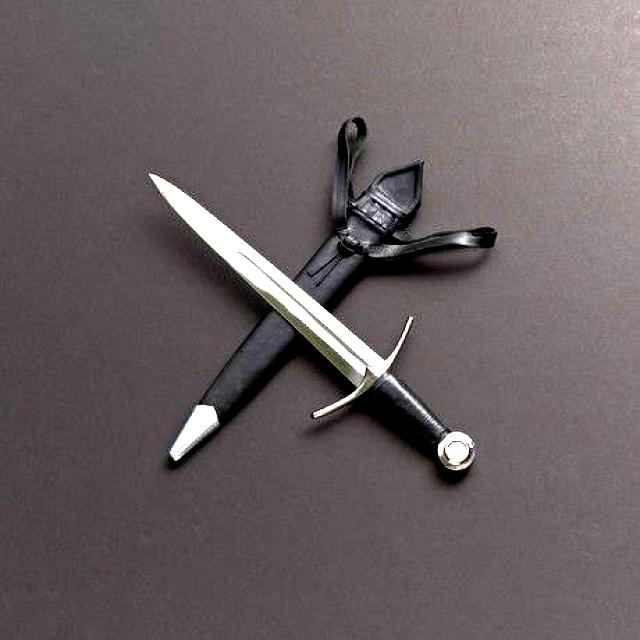short sword: (119, 93, 502, 505)
